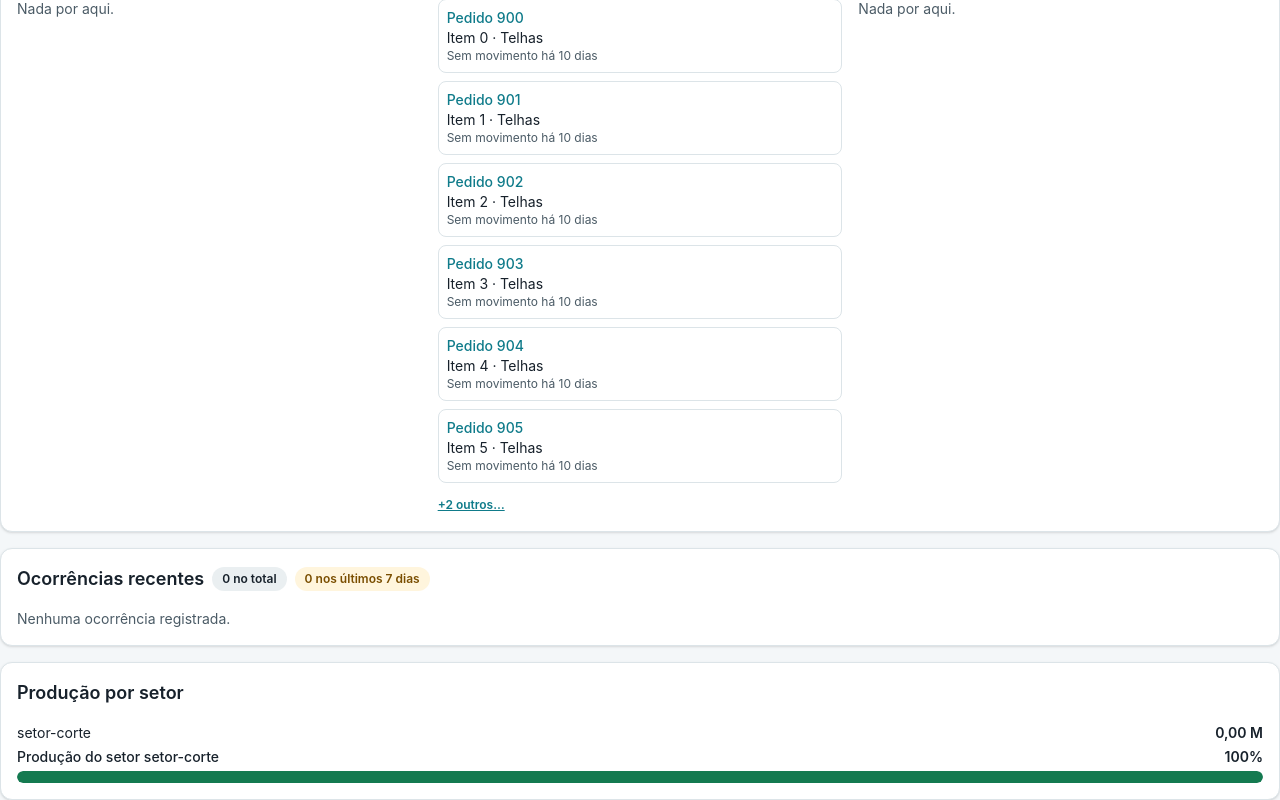
Test: PainelPage › expande os alertas além dos seis primeiros (P01)
(page scrolled)
Expected: the link "Pedido 905" is shown, 447,419 -> 523,436
Expected: the text "Pedido 907" is not shown
Click the button "+2 outros…" at (471, 505), box 438,497 -> 505,513
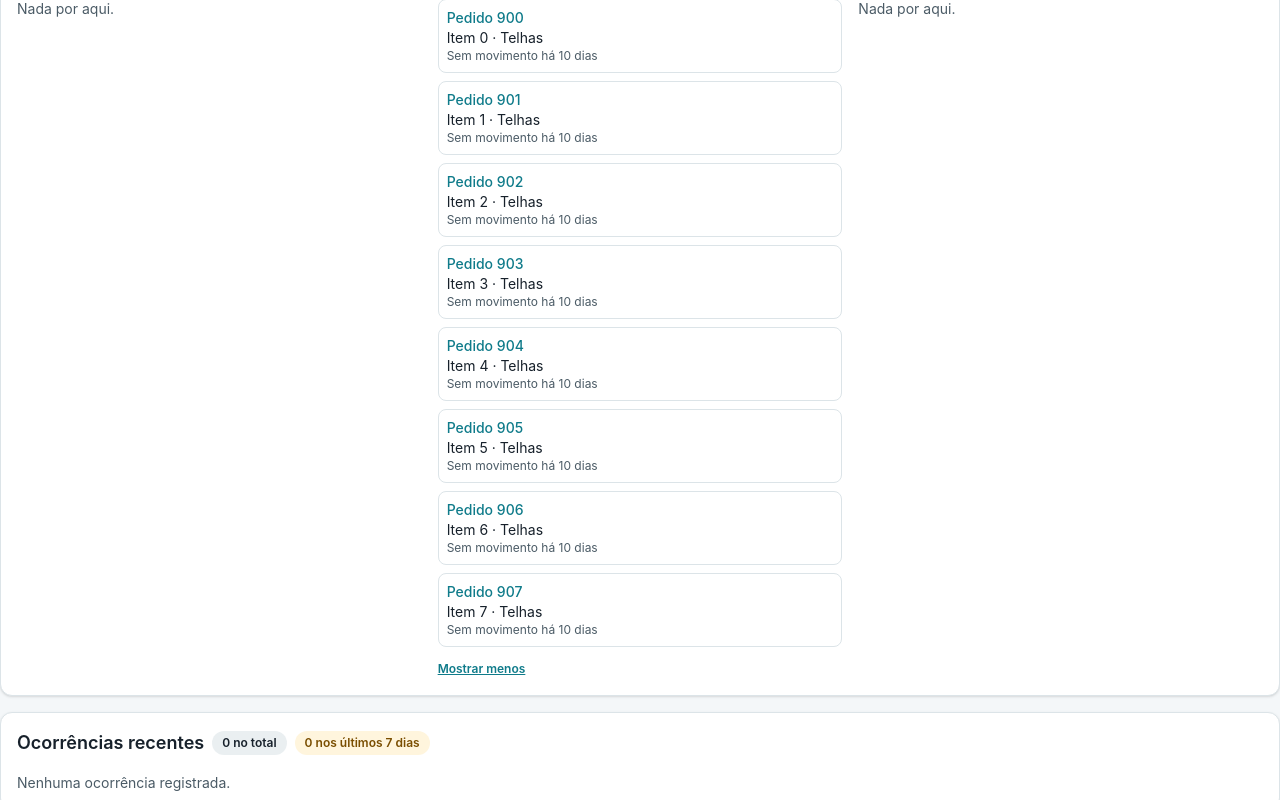
Expected: the link "Pedido 907" is shown, 447,583 -> 522,600
Expected: the button "Mostrar menos" is shown, 438,661 -> 525,677
